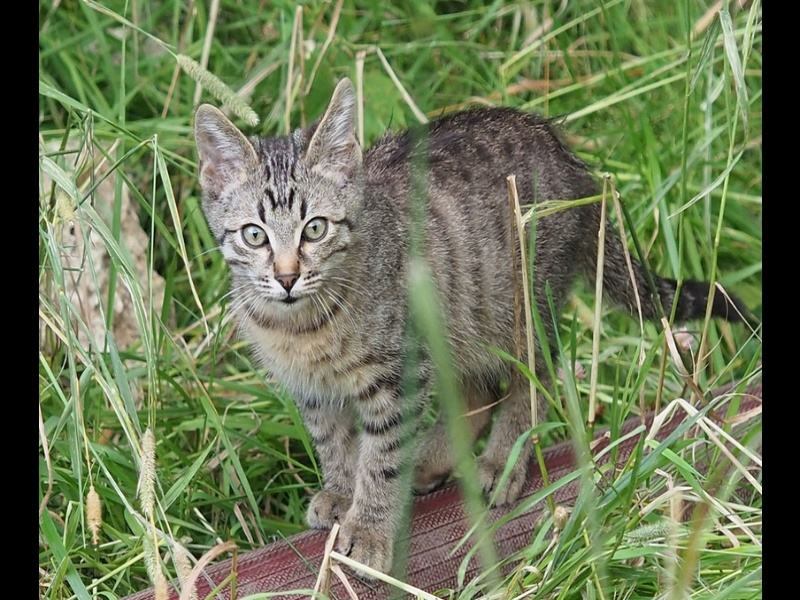cat: (187, 84, 746, 575)
